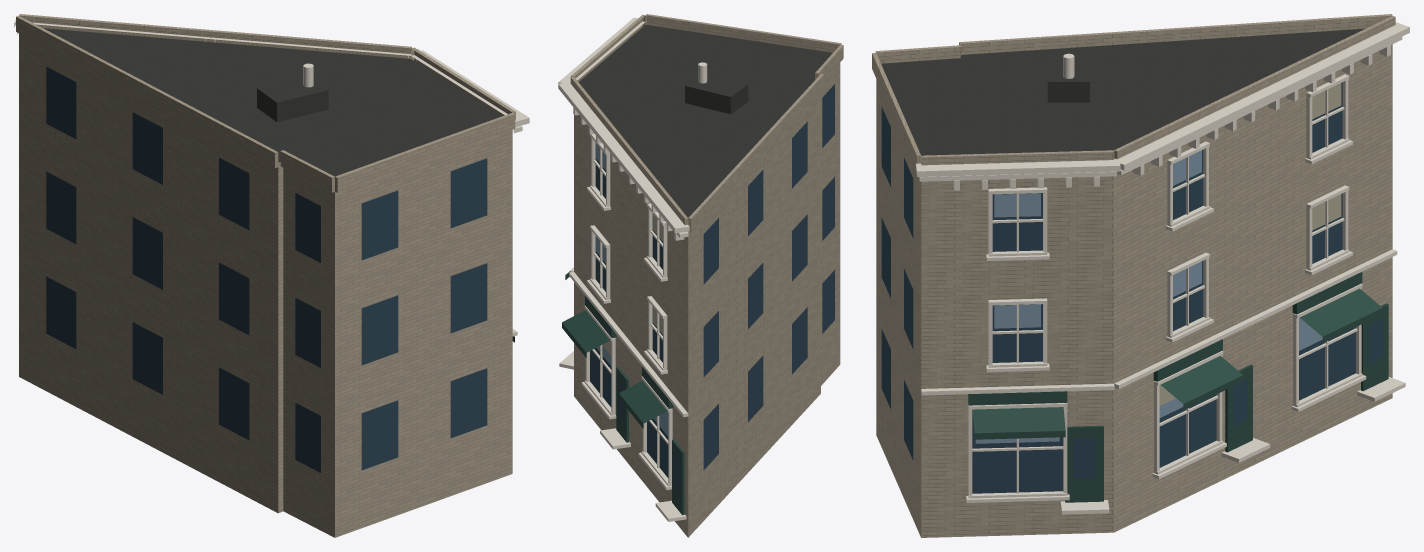
3 renders of one model, left to right at view 1: azimuth 30°, elevation 25°; view 2: azimuth 150°, elevation 25°; view 3: azimuth 270°, elevation 25°, orthographic. The views are drawn at different scales.
Visible parts, largest first — view 1: Footprint 0 / surface 2, Inset glazing, Footprint 0 / surface 1, Facade bay volumes, Cornices and window frames, Inferred rooftop service enclosure / surface 5, Inferred rooftop service enclosure / surface 3; view 2: Footprint 0 / surface 2, Footprint 0 / surface 1, Cornices and window frames, Inset glazing, Facade bay volumes, Storefronts and doors, Inferred rooftop service enclosure / surface 6, Inferred rooftop service enclosure / surface 3, Sky reflection panels, Interior blind variation; view 3: Footprint 0 / surface 2, Cornices and window frames, Footprint 0 / surface 1, Inset glazing, Storefronts and doors, Facade bay volumes, Sky reflection panels, Interior blind variation, Inferred rooftop service enclosure / surface 3, Inferred rooftop service enclosure / surface 1.
Boxes of the visible parts, x1,y1,x2,y2 form: Footprint 0 / surface 2: (19,33,512,537); Inset glazing: (46,66,487,472); Footprint 0 / surface 1: (44,28,501,176); Facade bay volumes: (16,14,515,192); Cornices and window frames: (14,15,529,336); Inferred rooftop service enclosure / surface 5: (277,90,328,121); Inferred rooftop service enclosure / surface 3: (257,77,327,102); Footprint 0 / surface 2: (574,62,840,537); Footprint 0 / surface 1: (578,25,832,217); Cornices and window frames: (558,17,689,521); Inset glazing: (590,84,834,492); Facade bay volumes: (570,14,843,231); Storefronts and doors: (562,272,684,515); Inferred rooftop service enclosure / surface 6: (685,86,730,114); Inferred rooftop service enclosure / surface 3: (685,74,747,96); Sky reflection panels: (596,143,668,436); Interior blind variation: (602,214,662,355); Footprint 0 / surface 2: (876,44,1392,537); Cornices and window frames: (916,22,1409,514); Footprint 0 / surface 1: (881,28,1365,155); Inset glazing: (881,82,1383,493); Storefronts and doors: (968,272,1388,502); Facade bay volumes: (872,14,1395,168); Sky reflection panels: (975,150,1322,443); Interior blind variation: (1159,83,1341,405); Inferred rooftop service enclosure / surface 3: (1047,55,1089,81); Inferred rooftop service enclosure / surface 1: (1047,82,1089,102).
Size of the model in its own units: 10.49 by 12.96 by 15.31.
